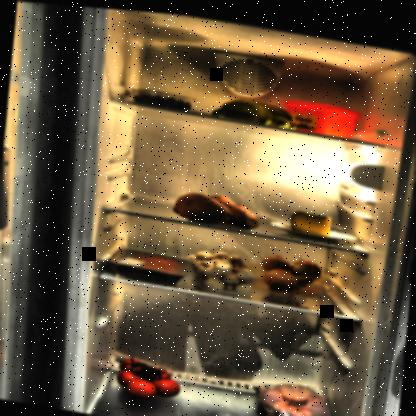banana: (210, 87, 300, 128)
beef: (121, 247, 184, 272)
blueberries: (130, 81, 198, 113)
butter: (283, 92, 370, 137)
cheese: (289, 203, 335, 235)
chicken: (252, 370, 340, 415)
mushrooms: (184, 244, 268, 297)
onion: (258, 246, 332, 292)
sweet_potato: (172, 182, 267, 229)
tomato: (116, 350, 185, 404)
